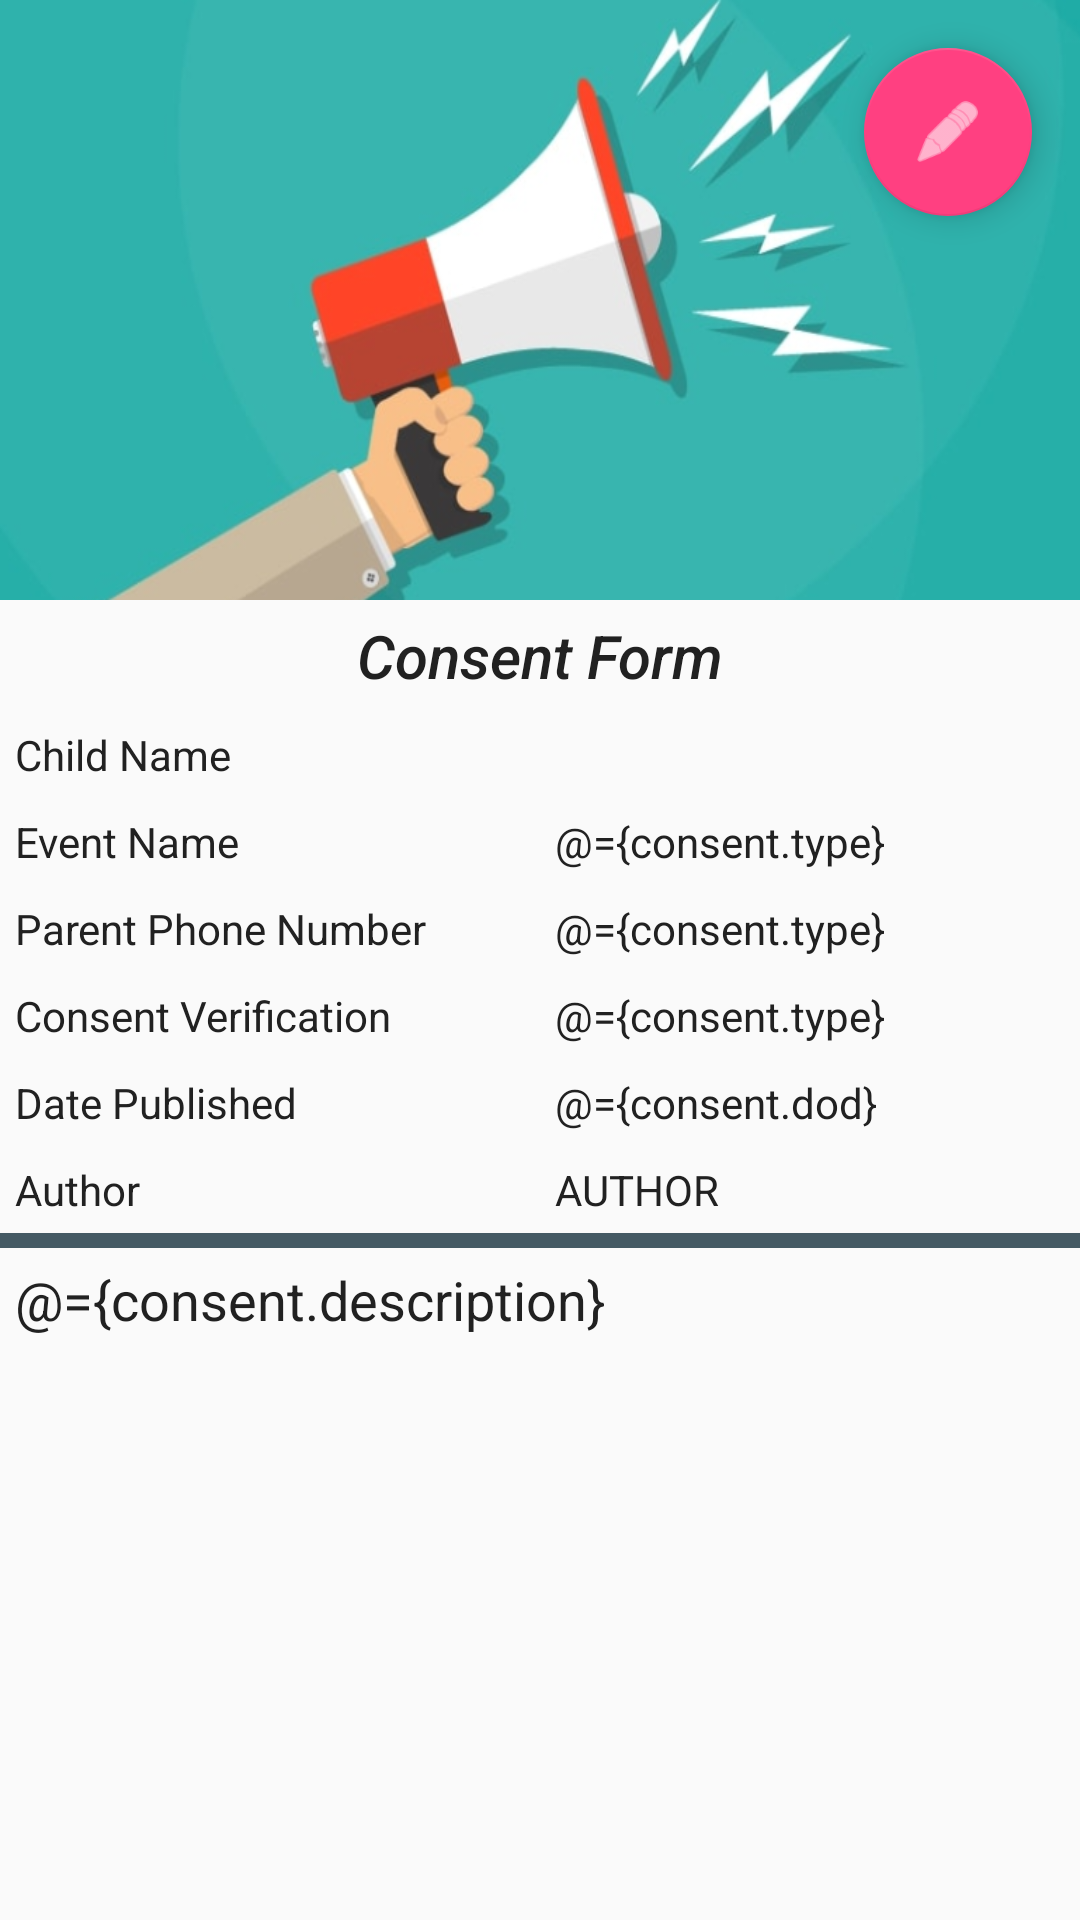

Icon click points for this 1080x1920 phone screenshot, format (x,y):
edit: (948,132)
